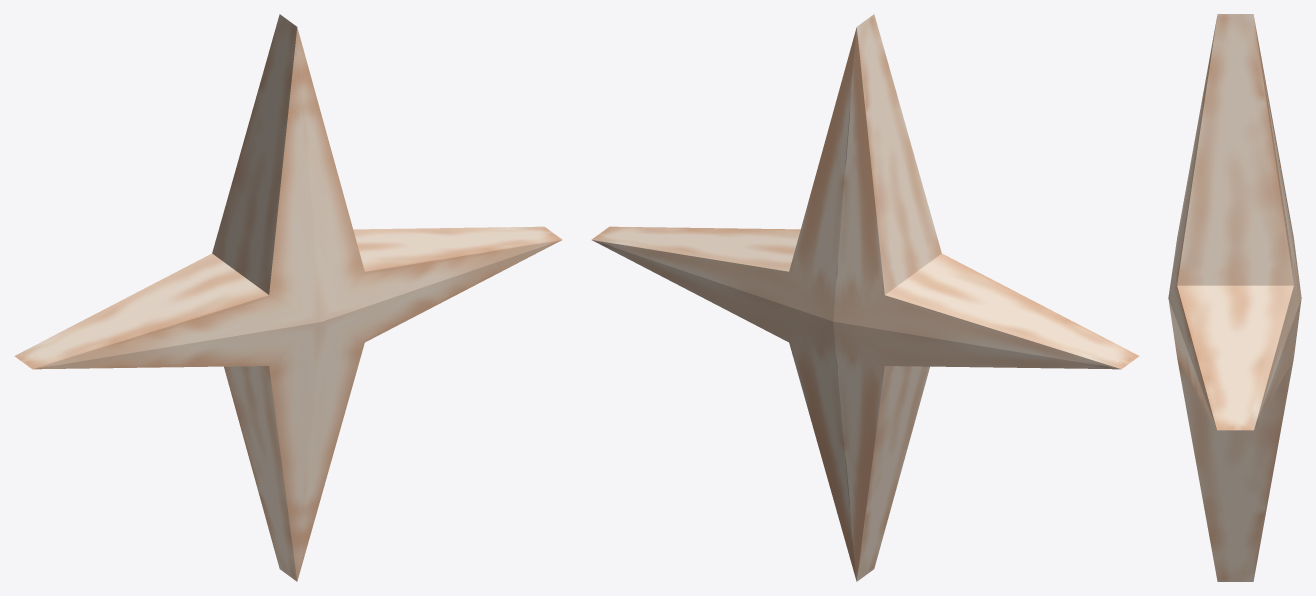
File: essence_star.glb
3 renders of one model, left to right at view 1: azimuth 30°, elevation 25°; view 2: azimuth 150°, elevation 25°; view 3: azimuth 270°, elevation 25°, orthographic. The views are drawn at different scales.
Visible parts, largest first — view 1: Cube; view 2: Cube; view 3: Cube.
Boxes of the visible parts, left/top/right/bottom form: Cube: left=14, top=14, right=562, bottom=581; Cube: left=591, top=14, right=1139, bottom=581; Cube: left=1168, top=14, right=1301, bottom=581.
Size of the model in its own units: 4 by 4 by 0.8505.
Materials: 1 (1 with a texture image).
